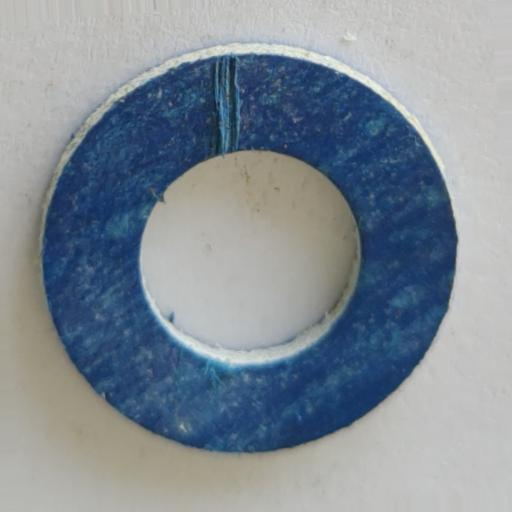defect: (208, 53, 241, 157)
